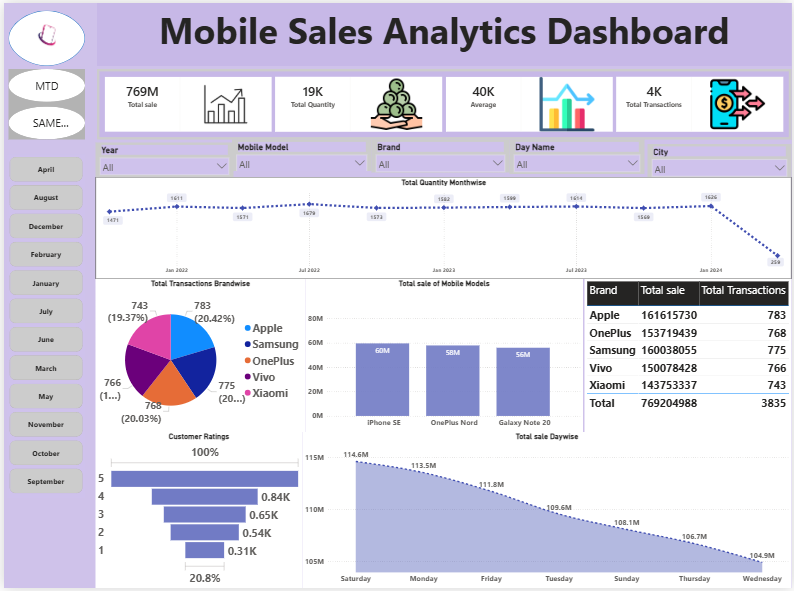

Layout of this report page (visuals, bound fields, positions):
{"tool":"powerbi","page":{"name":"Page 1","canvas":[1750,1100],"ordinal":0},"visuals":[{"type":"shape","box":[10,16.7,170,123.3],"z":0},{"type":"advancedSlicerVisual","fields":{"Values":["Custom_calender.Month Name"]},"box":[6.7,336.7,173.3,763.3],"z":1000},{"type":"cardVisual","fields":{"Data":["sales data.Total sale","sales data.Total Quantity","sales data.Average","sales data.Total Transactions"]},"box":[206.7,0,1543.3,110],"z":2000},{"type":"lineChart","title":"Total Quantity Monthwise","fields":{"Category":["Custom_calender.Dates.Variation.Date Hierarchy.Year","Custom_calender.Dates.Variation.Date Hierarchy.Quarter","Custom_calender.Dates.Variation.Date Hierarchy.Month","Custom_calender.Dates.Variation.Date Hierarchy.Day"],"Y":["sales data.Total Quantity"]},"box":[203.3,190,1546.7,226.7],"z":3000},{"type":"pieChart","title":"Total Transactions Brandwise","fields":{"Y":["sales data.Total Transactions"],"Category":["sales data.Brand"]},"box":[206.7,413.3,466.7,340],"z":4000},{"type":"columnChart","title":"Total sale of Mobile Models","fields":{"Y":["sales data.Total sale"],"Category":["sales data.Mobile Model"]},"box":[673.3,416.7,616.7,340],"z":5000},{"type":"tableEx","fields":{"Values":["sales data.Brand","sales data.Total sale","sales data.Total Transactions"]},"box":[1290,413.3,460,340],"z":6000},{"type":"areaChart","title":"Total sale Daywise","fields":{"Y":["sales data.Total sale"],"Category":["sales data.Day Name"]},"box":[670,753.3,1080,346.7],"z":7000},{"type":"funnel","title":"Customer Ratings","fields":{"Category":["sales data.Customer Ratings"],"Y":["CountNonNull(sales data.Customer Ratings)"]},"box":[213.3,753.3,460,346.7],"z":8000},{"type":"slicer","fields":{"Values":["sales data.Mobile Model"]},"box":[516.7,113.3,310,70],"z":9000},{"type":"slicer","fields":{"Values":["sales data.Brand"]},"box":[826.7,103.3,306.7,73.3],"z":10000},{"type":"slicer","fields":{"Values":["sales data.Day Name"]},"box":[1130,106.7,300,76.7],"z":11000},{"type":"slicer","fields":{"Values":["sales data.City"]},"box":[1430,103.3,320,73.3],"z":12000},{"type":"image","box":[33.3,30,123.3,83.3],"z":13000},{"type":"slicer","fields":{"Values":["Custom_calender.Year"]},"box":[206.7,113.3,306.7,76.7],"z":14000},{"type":"pageNavigator","box":[10,146.7,170,156.7],"z":15000}]}

Visuals, with their boxes on the page's 1750x1100 design canvas (x1, y1, x2, y2). These are canvas units, not pixel positions in the 794x591 screenshot, which may show the page scaled, cropped or inside an application window:
shape: bbox=(10, 17, 180, 140)
advancedSlicerVisual - Custom_calender.Month Name: bbox=(7, 337, 180, 1100)
cardVisual - sales data.Total sale x sales data.Total Quantity: bbox=(207, 0, 1750, 110)
"Total Quantity Monthwise" lineChart: bbox=(203, 190, 1750, 417)
"Total Transactions Brandwise" pieChart: bbox=(207, 413, 673, 753)
"Total sale of Mobile Models" columnChart: bbox=(673, 417, 1290, 757)
tableEx - sales data.Brand x sales data.Total sale: bbox=(1290, 413, 1750, 753)
"Total sale Daywise" areaChart: bbox=(670, 753, 1750, 1100)
"Customer Ratings" funnel: bbox=(213, 753, 673, 1100)
slicer - sales data.Mobile Model: bbox=(517, 113, 827, 183)
slicer - sales data.Brand: bbox=(827, 103, 1133, 177)
slicer - sales data.Day Name: bbox=(1130, 107, 1430, 183)
slicer - sales data.City: bbox=(1430, 103, 1750, 177)
image: bbox=(33, 30, 157, 113)
slicer - Custom_calender.Year: bbox=(207, 113, 513, 190)
pageNavigator: bbox=(10, 147, 180, 303)
